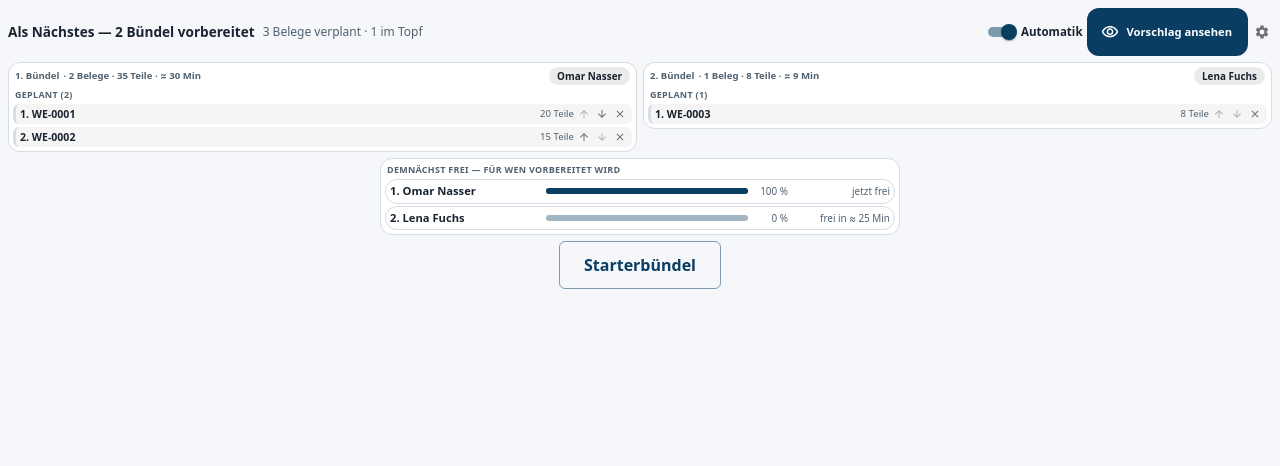
Test: VorverteilungPane › Starter-Vorlauf gilt für alle: 6 Stunden holen einen späteren Schichtstart herein
The image size is (1280, 466).
Click the button "Starterbündel" at (640, 265), box [559,241,721,289]
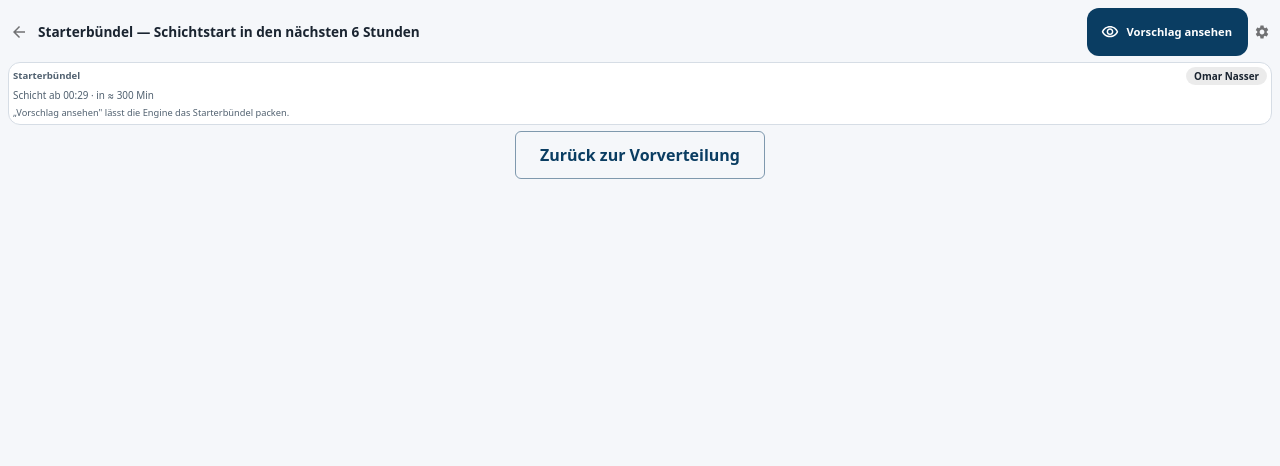
Result: the text "Starterbündel — Schichtstart in den nächsten 6 Stunden" is shown at [38,22,420,42]
Result: the element with test id "starter-slot-ma-2" is shown at [8,62,1272,125]
# Aufgeteilt wird nicht: das Zahnrad zeigt den einen gemeinsamen Wert.
Click the button named "Starterbündel einstellen" at (1262, 32), box [1252,22,1272,42]
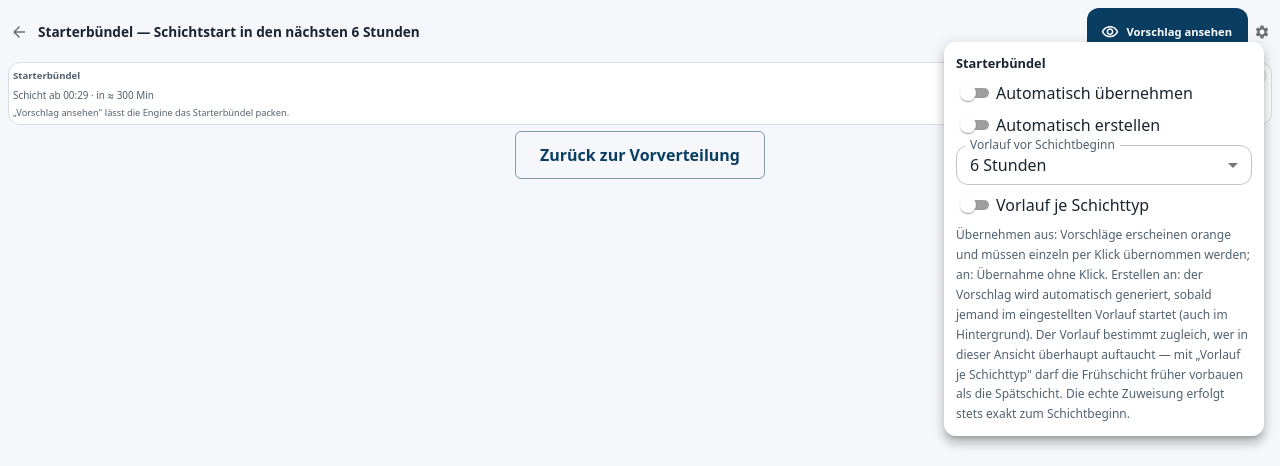
Result: the dropdown named "Vorlauf vor Schichtbeginn" is shown at [970,154,1046,176]
